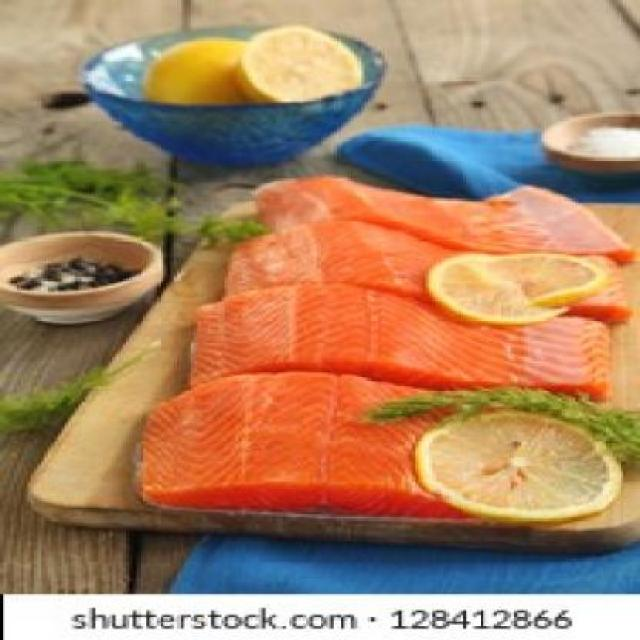salmon: (115, 364, 592, 516), (166, 280, 622, 403), (207, 216, 640, 331), (228, 172, 639, 271)
